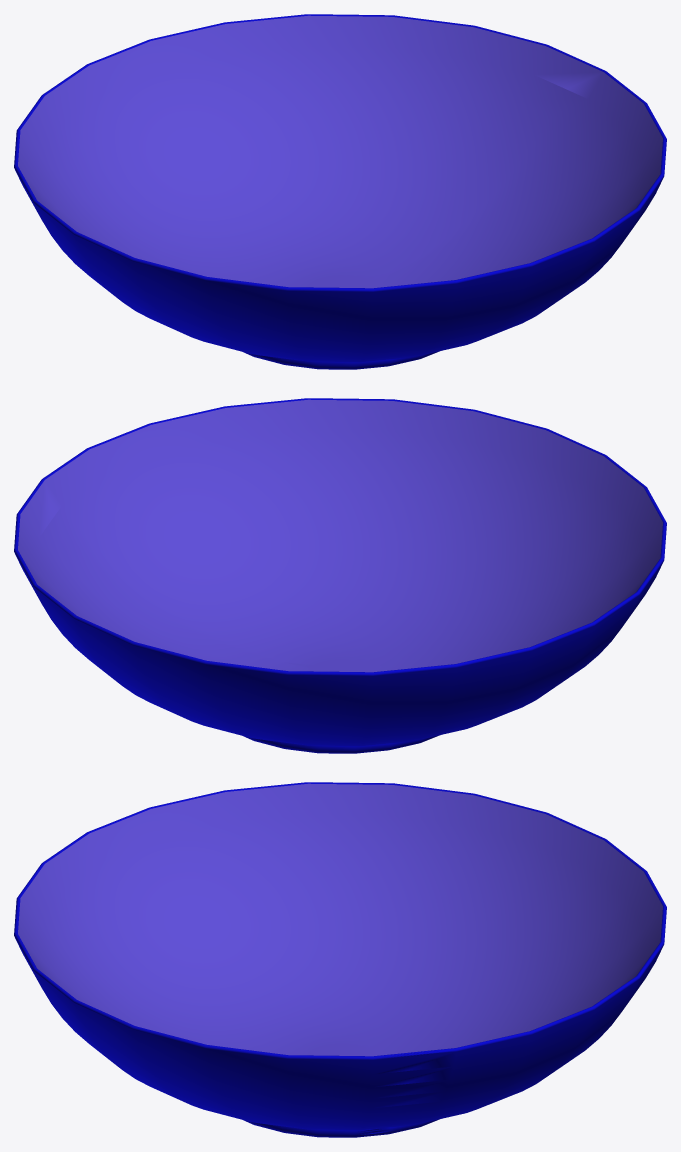
Rendered from bowl.dae.
3 renders of one model, top to bottom at view 1: azimuth 30°, elevation 25°; view 2: azimuth 150°, elevation 25°; view 3: azimuth 270°, elevation 25°, orthographic.
Parts seen in each view (by area): view 1: instance_0_002, instance_0_001; view 2: instance_0_002, instance_0_001; view 3: instance_0_002, instance_0_001.
Boxes of the visible parts, x1,y1,x2,y2 form: instance_0_002: (18, 15, 662, 288); instance_0_001: (14, 14, 666, 369); instance_0_002: (18, 399, 662, 672); instance_0_001: (14, 398, 666, 753); instance_0_002: (18, 783, 662, 1056); instance_0_001: (14, 782, 666, 1137).
Bounding box in the file's own units: 0.1713 × 0.1713 × 0.0468.
